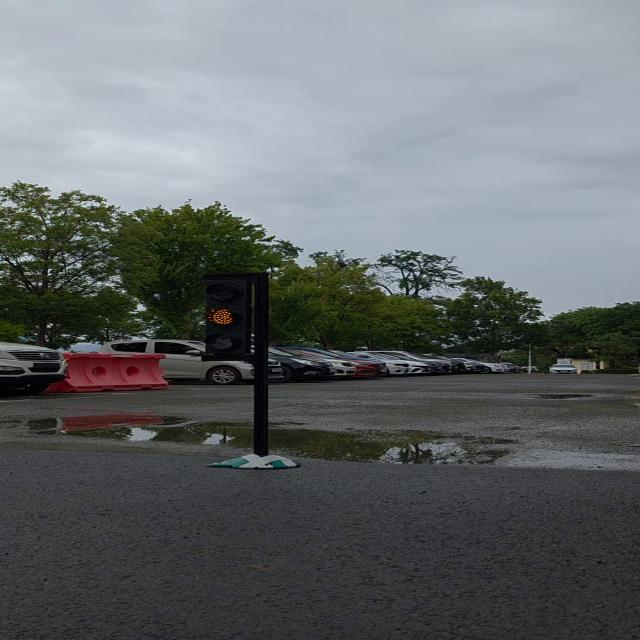yellow: (194, 268, 277, 364)
